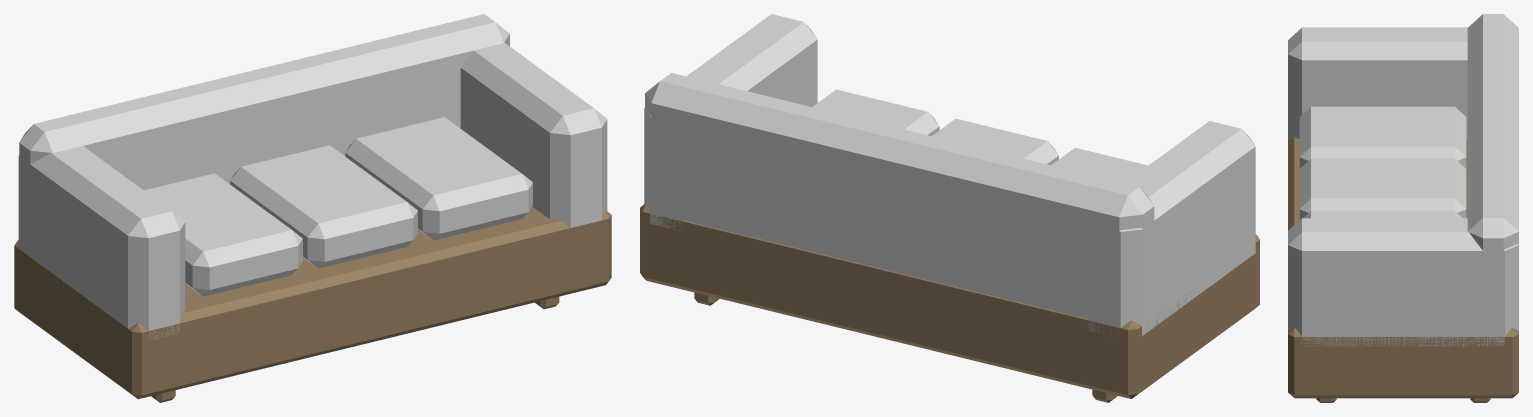
File: couch.glb
3 renders of one model, left to right at view 1: azimuth 30°, elevation 25°; view 2: azimuth 150°, elevation 25°; view 3: azimuth 270°, elevation 25°, orthographic. The views are drawn at different scales.
Visible parts, largest first — view 1: couch; view 2: couch; view 3: couch.
Part boxes in pixels (box(x1,y1,x2,y2)): couch: box(14, 14, 611, 402); couch: box(640, 14, 1259, 402); couch: box(1288, 14, 1518, 402).
Bounding box in the file's own units: 2 × 0.85 × 0.9.
